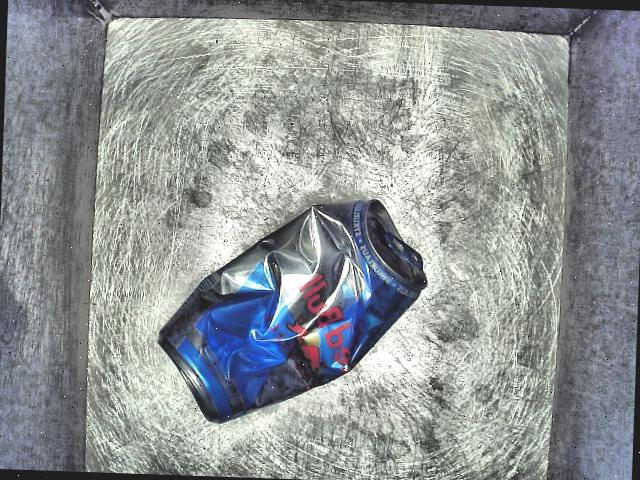Bottles: (133, 168, 439, 428)
